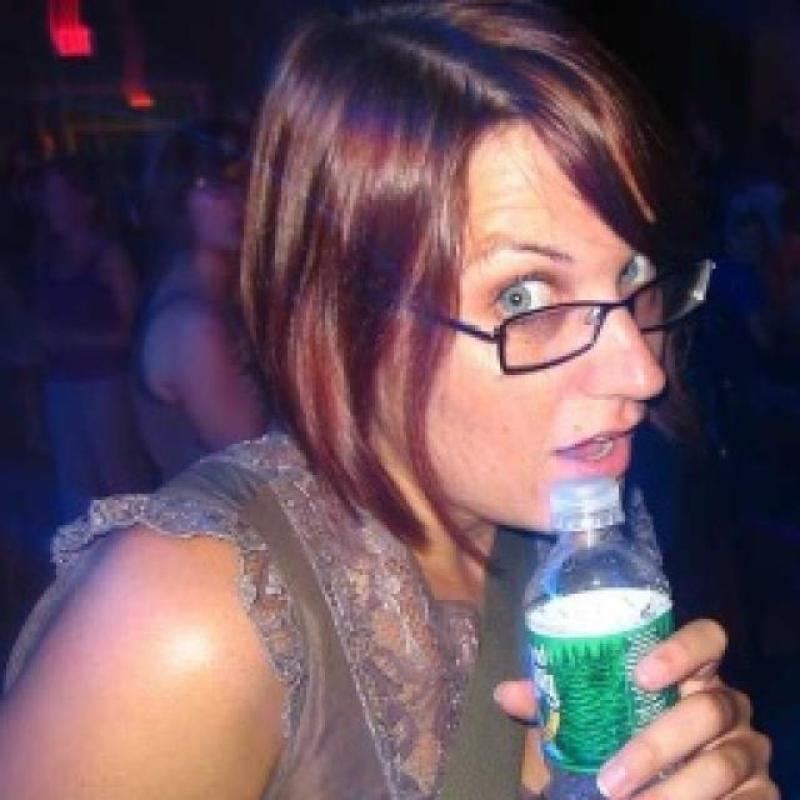botella: (520, 475, 674, 800)
